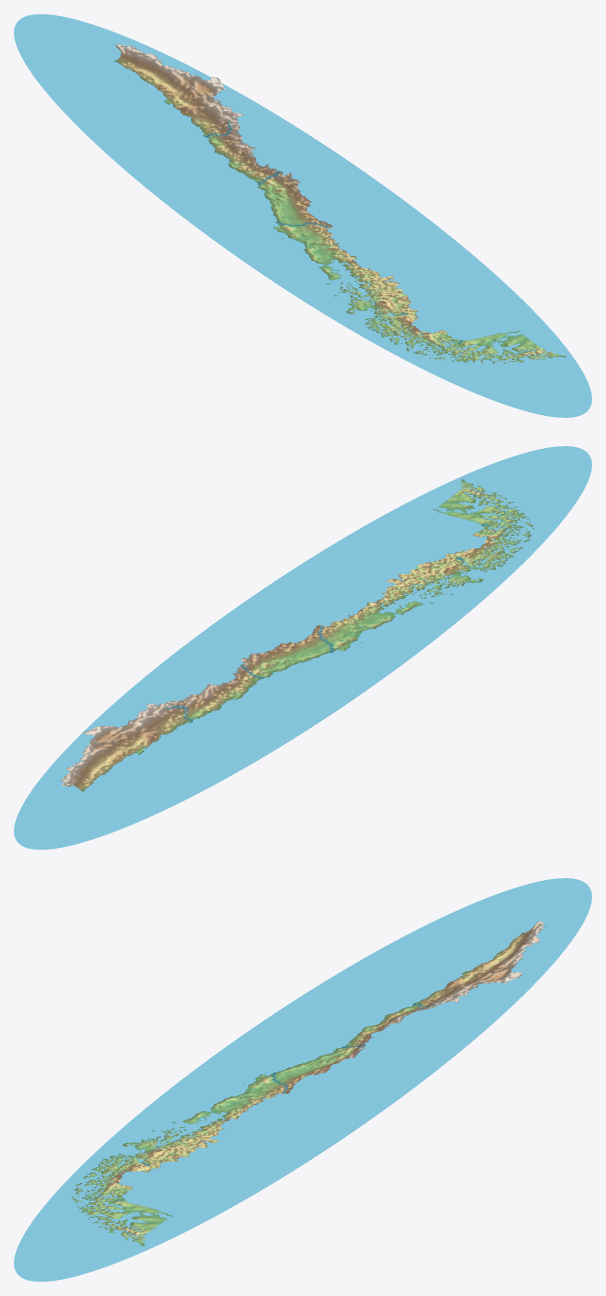
Rendered from CHL-terrain.glb.
3 renders of one model, top to bottom at view 1: azimuth 30°, elevation 25°; view 2: azimuth 150°, elevation 25°; view 3: azimuth 330°, elevation 25°, orthographic.
Visible parts, largest first — view 1: Relevo com hidrografia; view 2: Relevo com hidrografia; view 3: Relevo com hidrografia.
Boxes of the visible parts, bbox=[...] form: Relevo com hidrografia: bbox=[14, 14, 591, 417]; Relevo com hidrografia: bbox=[14, 446, 591, 849]; Relevo com hidrografia: bbox=[14, 878, 591, 1281].
Size of the model in its own units: 0.4015 by 0.0246 by 2.08.
2 materials, 1 textured.
